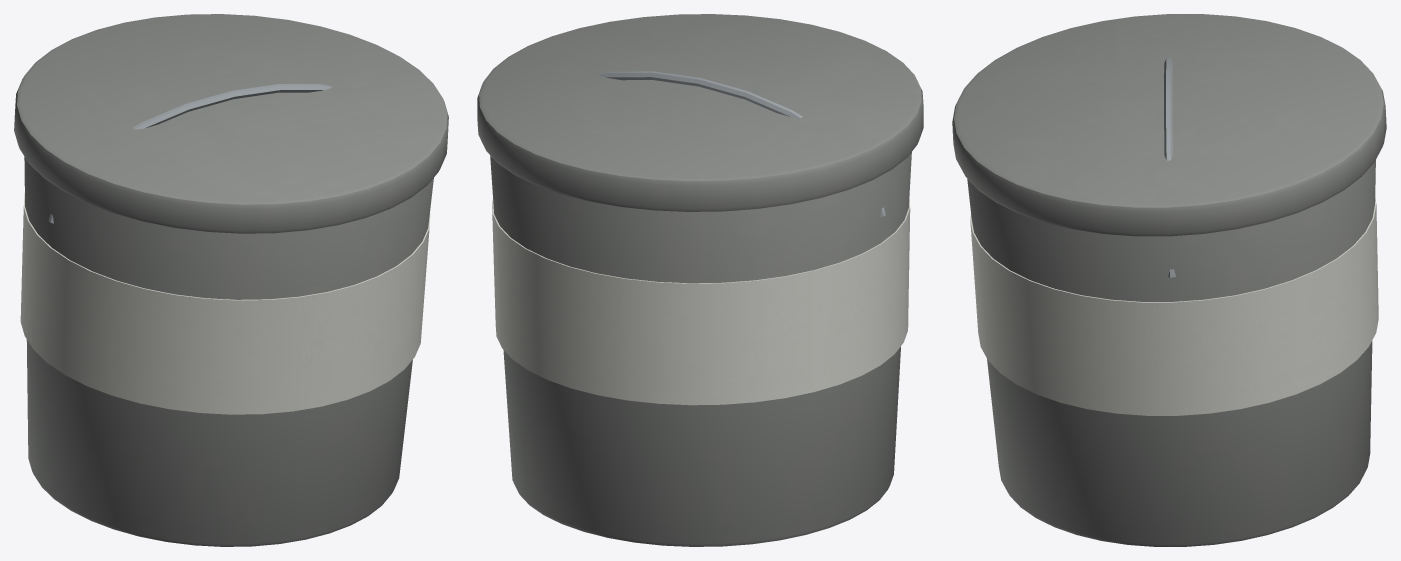
The model's file is ALV-DRY-008_anim.glb.
3 views of the same model, side by side, from view 1: azimuth 30°, elevation 25°; view 2: azimuth 150°, elevation 25°; view 3: azimuth 270°, elevation 25° (orthographic). The views are drawn at different scales.
Visible parts, largest first — view 1: ALV-DRY-008_anim0; view 2: ALV-DRY-008_anim0; view 3: ALV-DRY-008_anim0.
Part boxes in pixels (<box>): ALV-DRY-008_anim0: <box>14,14,448,546</box>; ALV-DRY-008_anim0: <box>477,14,923,546</box>; ALV-DRY-008_anim0: <box>952,14,1386,546</box>.
Bounding box in the file's own units: 0.3044 × 0.2986 × 0.3044.
3 materials, 3 textured.
